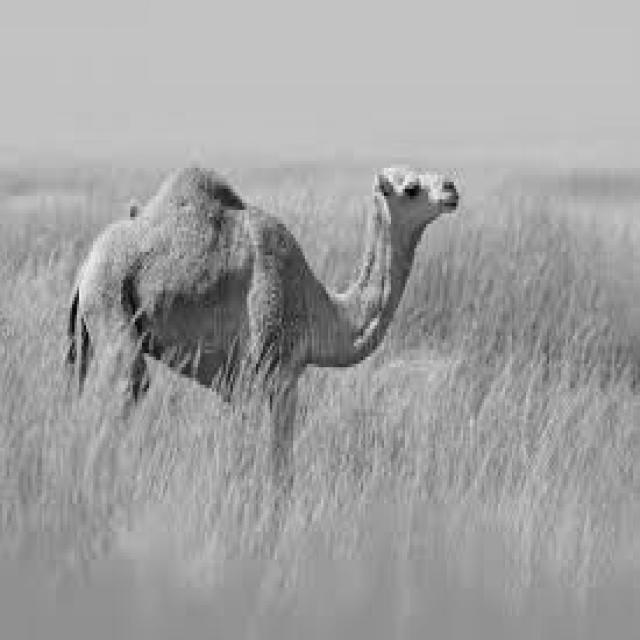Camel: (61, 161, 458, 507)
